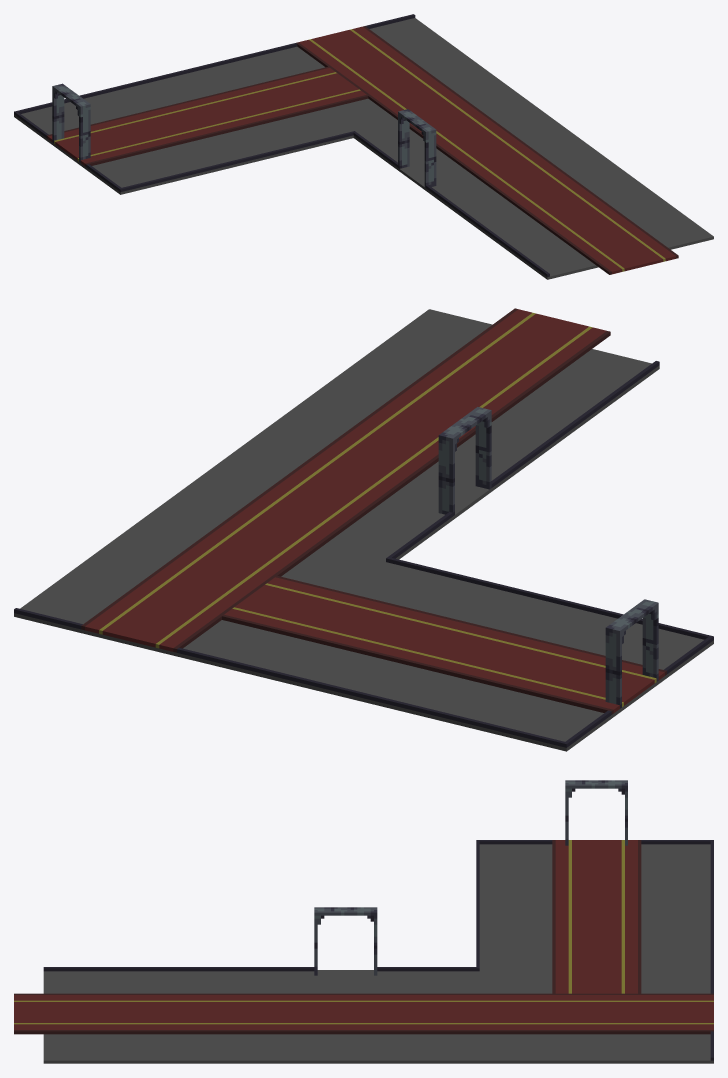
The model's file is castle_cross_hall-6-floor - carpet.obj.
3 views of the same model, one above another, from view 1: azimuth 30°, elevation 25°; view 2: azimuth 150°, elevation 25°; view 3: azimuth 270°, elevation 25° (orthographic). The views are drawn at different scales.
Visible parts, largest first — view 1: floor - carpet; view 2: floor - carpet; view 3: floor - carpet.
Boxes of the visible parts, x1=… form: floor - carpet: x1=14, y1=14, x2=713, y2=279; floor - carpet: x1=14, y1=308, x2=713, y2=751; floor - carpet: x1=14, y1=780, x2=713, y2=1063.
Size of the model in its own units: 15.6 by 2.2 by 21.2.
1 material, 1 textured.
